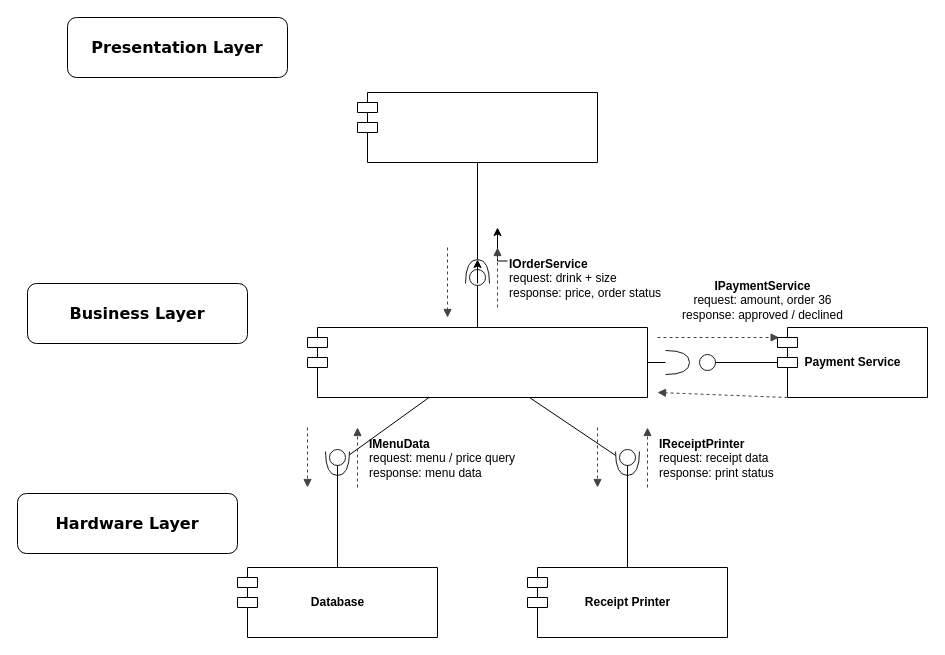
Some shapes in this 945 by 655 pixel diagram are drawn without their labels. Each missing label, with the centre of its shape:
Order Manager: point (477, 362)
User Interface: point (477, 127)
